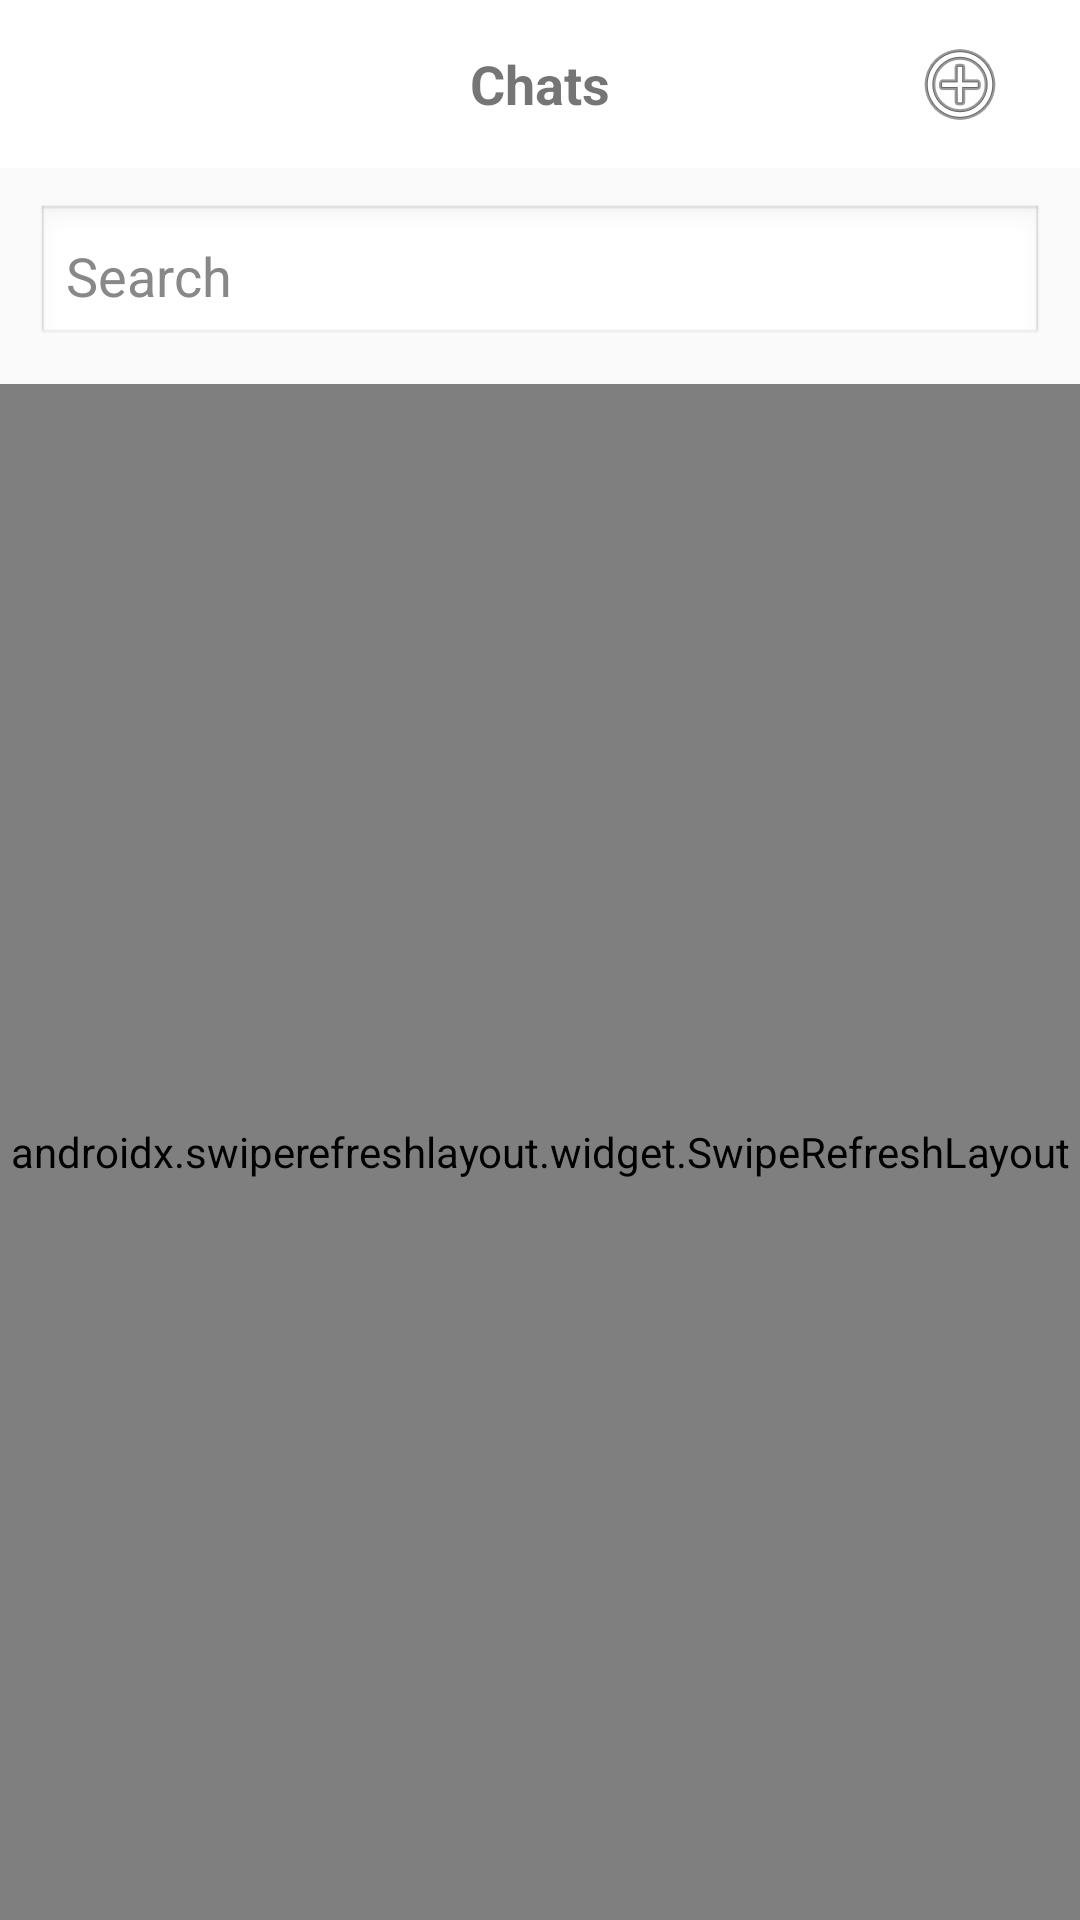

Locate icon controls on the screen. Image size 1080×1920, boxes as [left=x1, top=y1, right=x2, bottom=y2].
New message: [left=924, top=49, right=996, bottom=120]
